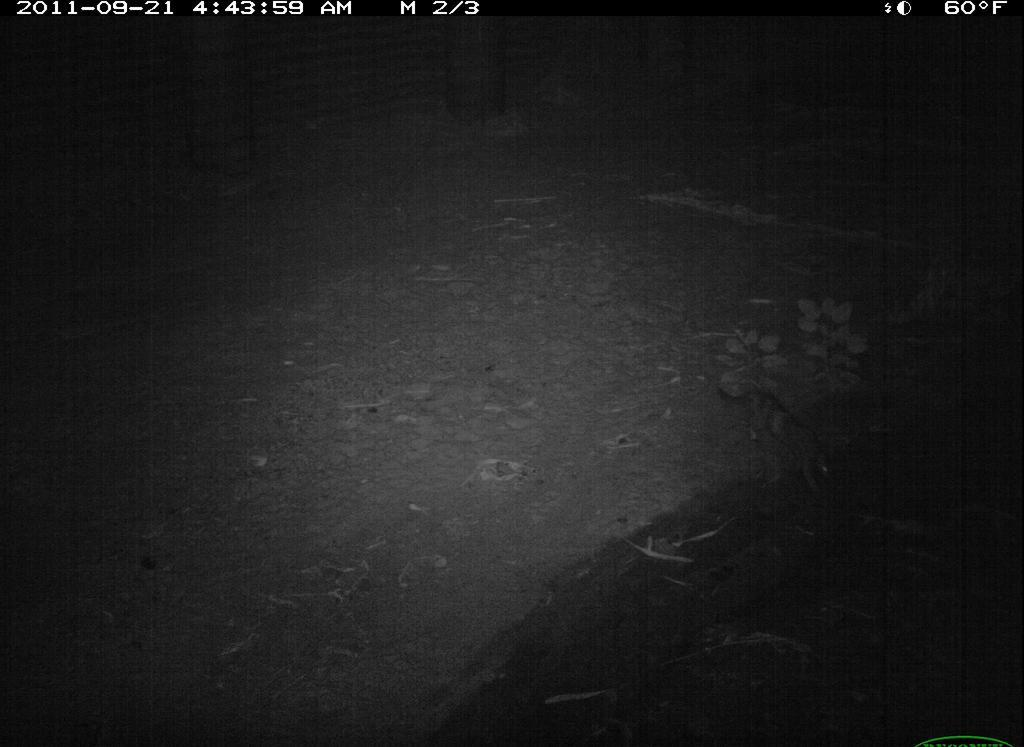cat: (716, 373, 856, 506)
